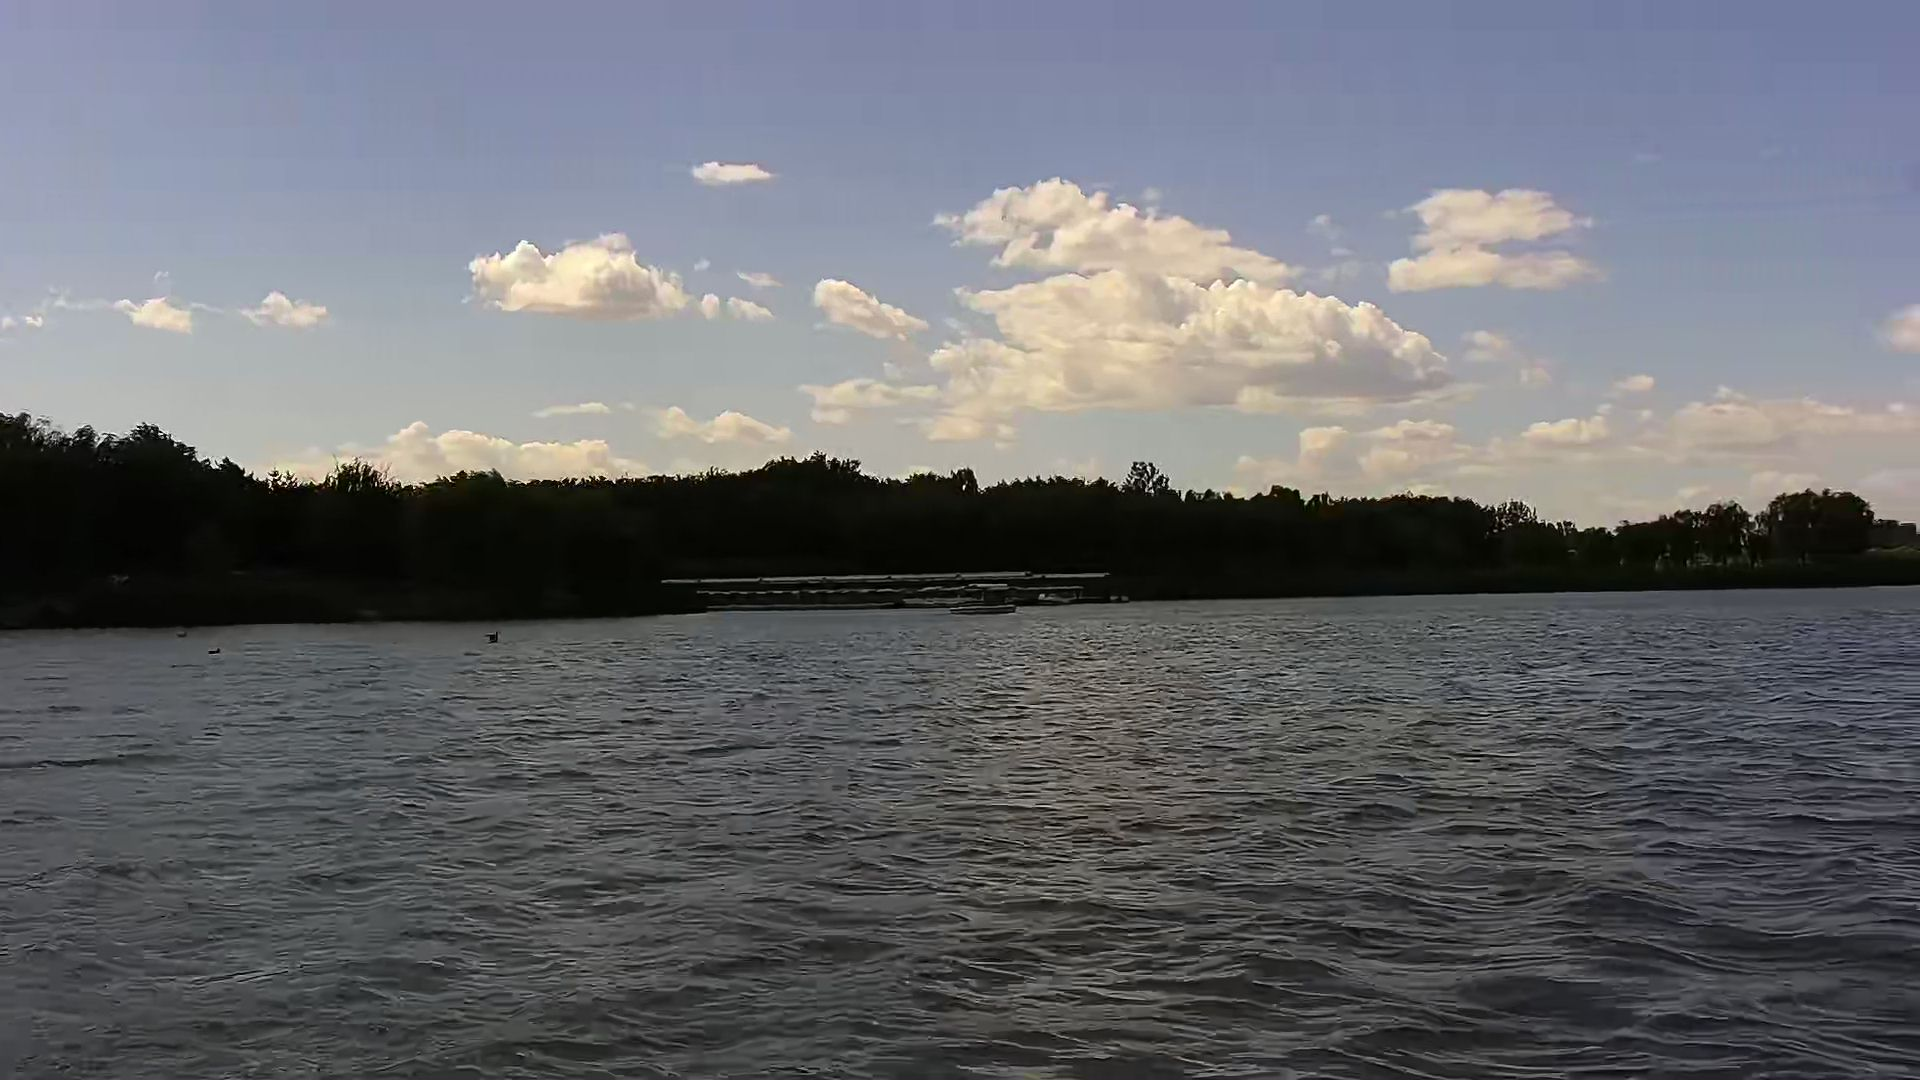boat: (948, 580, 1026, 622)
harbor: (651, 563, 1133, 611)
